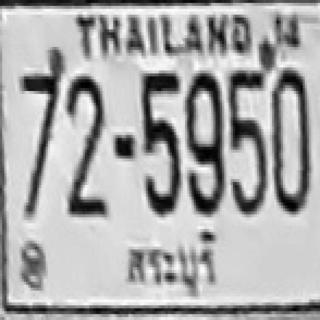N00: (270, 66, 309, 213)
N02: (65, 82, 107, 214), (64, 72, 103, 204)
N05: (227, 68, 267, 211), (139, 70, 179, 212)
N09: (183, 70, 222, 212)
P60: (120, 227, 222, 296)
